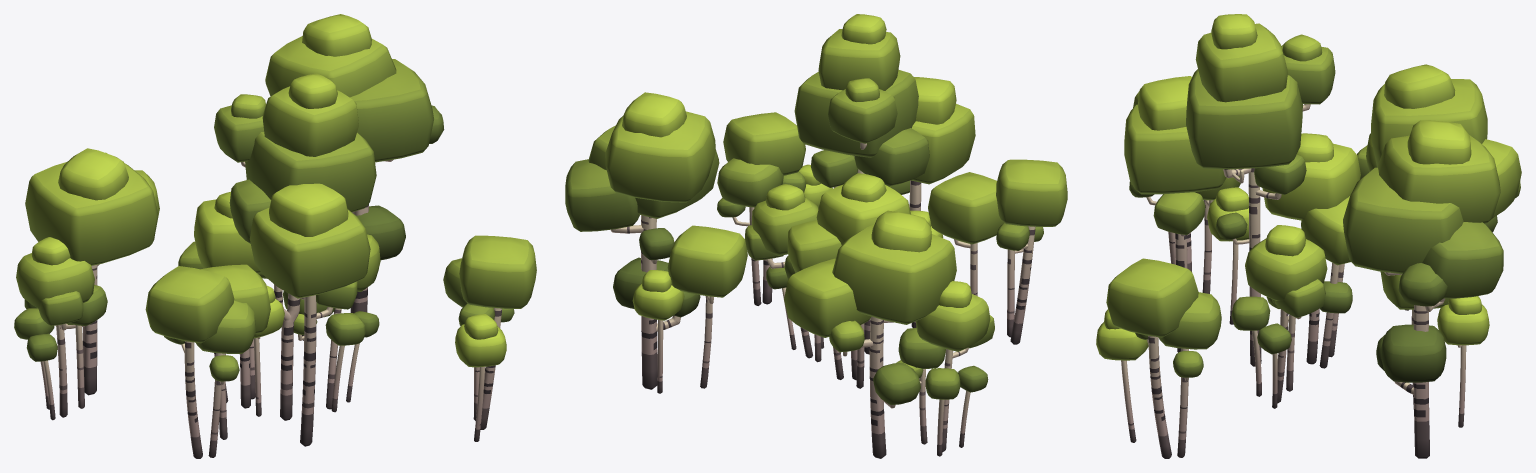
The model's file is birch_tree_group_col1.fbx.
3 renders of one model, left to right at view 1: azimuth 30°, elevation 25°; view 2: azimuth 150°, elevation 25°; view 3: azimuth 270°, elevation 25°, orthographic. The views are drawn at different scales.
Visible parts, largest first — view 1: birch_tree_group_col1; view 2: birch_tree_group_col1; view 3: birch_tree_group_col1.
Part boxes in pixels (left/top/right/bottom): birch_tree_group_col1: left=14, top=14, right=536, bottom=458; birch_tree_group_col1: left=565, top=14, right=1067, bottom=458; birch_tree_group_col1: left=1096, top=14, right=1521, bottom=458.
Size of the model in its own units: 1686 by 1362 by 1410.
1 material, 1 textured.
